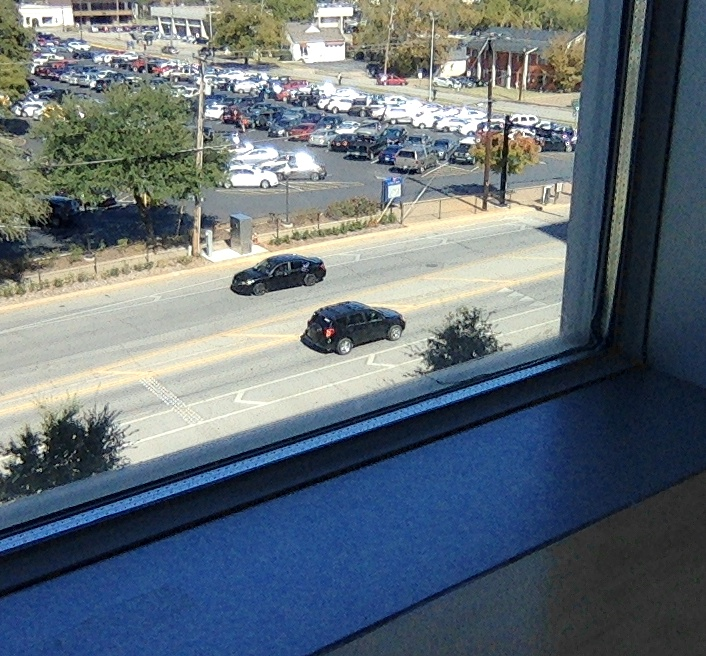car: (300, 300, 406, 356)
